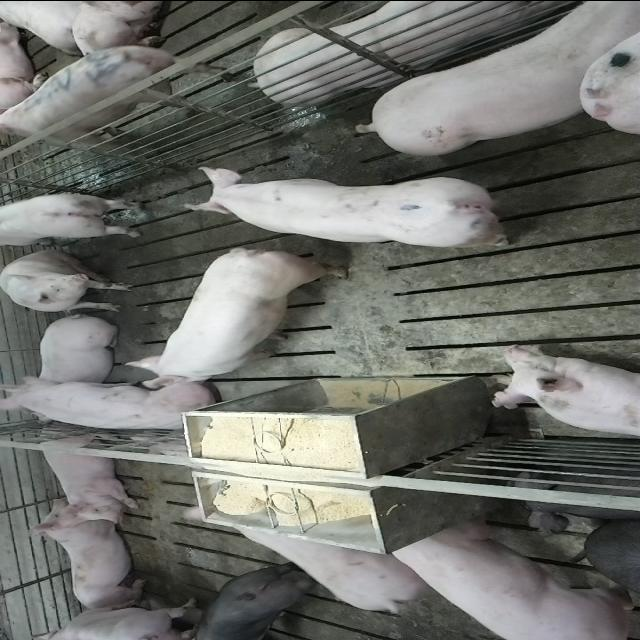Feeding: (125, 244, 351, 383)
Sitting: (0, 375, 216, 433), (2, 248, 138, 312)
Standing: (388, 518, 634, 638), (190, 172, 534, 255), (0, 45, 223, 152), (221, 532, 436, 616), (185, 566, 328, 640), (2, 190, 152, 246)
Sternal_lying: (248, 1, 582, 102), (18, 502, 150, 612), (488, 345, 640, 439), (31, 426, 141, 524), (34, 316, 124, 387)
